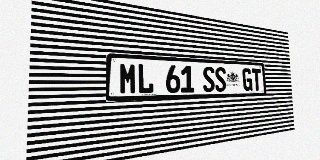1: (180, 65, 194, 93)
6: (166, 65, 180, 93)
G: (242, 68, 252, 91)
L: (137, 63, 154, 94)
M: (119, 63, 137, 94)
S: (202, 66, 215, 92), (214, 67, 226, 92)
T: (252, 68, 262, 91)
